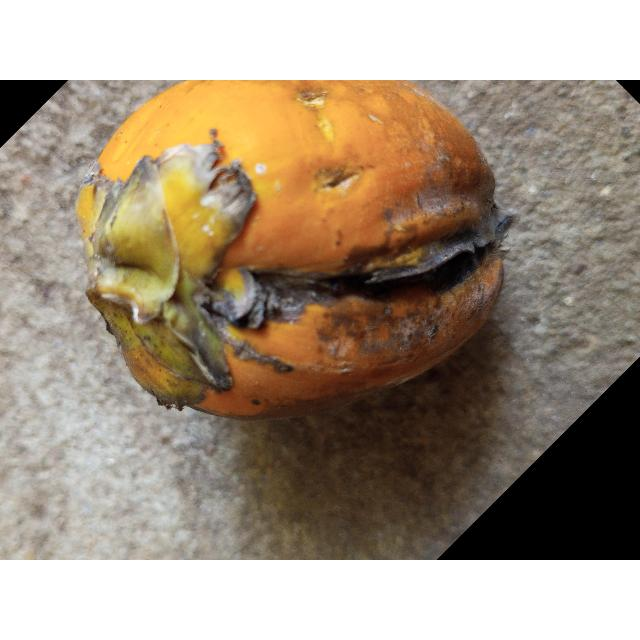damaged: (75, 80, 514, 422)
